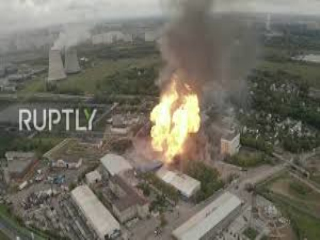fire: (145, 91, 207, 160)
smoke: (162, 6, 254, 94)
